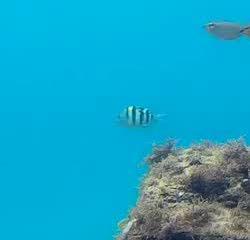smallfish: (113, 99, 167, 132)
